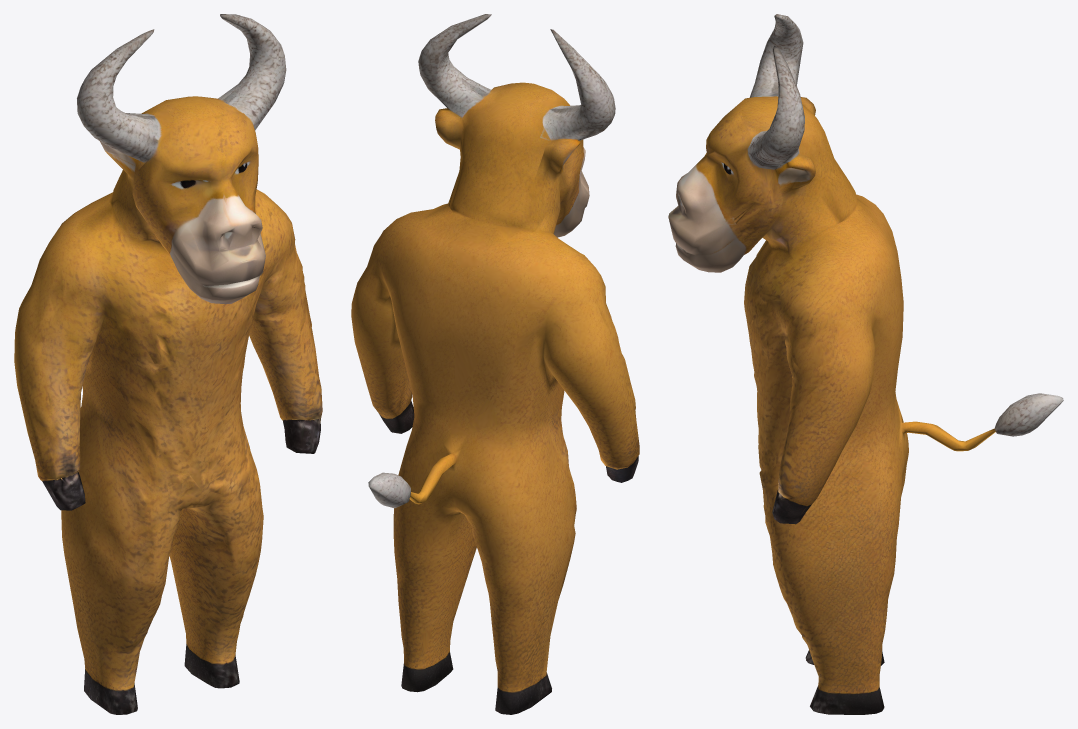
File: 牛来-牛爸爸.fbx
3 renders of one model, left to right at view 1: azimuth 30°, elevation 25°; view 2: azimuth 150°, elevation 25°; view 3: azimuth 270°, elevation 25°, orthographic. The views are drawn at different scales.
Visible parts, largest first — view 1: tripo_node_887a4f75; view 2: tripo_node_887a4f75; view 3: tripo_node_887a4f75.
Boxes of the visible parts, <box> form: tripo_node_887a4f75: <box>14,14,322,714</box>; tripo_node_887a4f75: <box>351,14,639,714</box>; tripo_node_887a4f75: <box>668,14,1063,714</box>.
Bounding box in the file's own units: 0.4282 × 0.9997 × 0.5513.
1 material, 1 textured.
